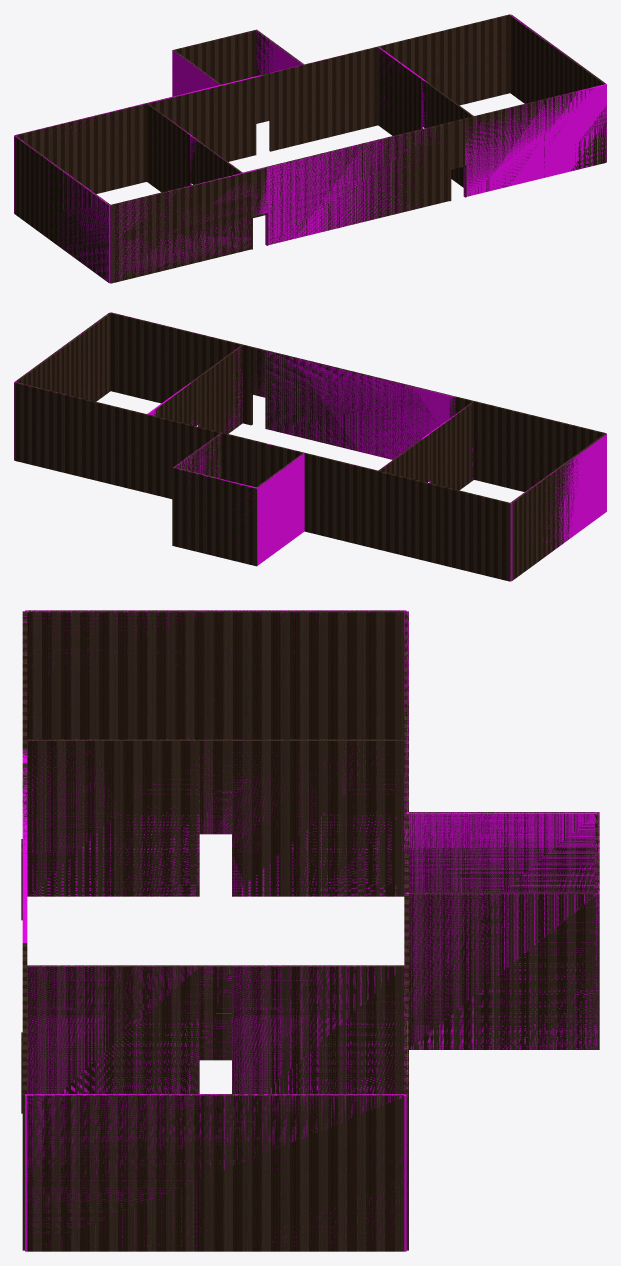
The model's file is dinding.glb.
3 views of the same model, one above another, from view 1: azimuth 30°, elevation 25°; view 2: azimuth 150°, elevation 25°; view 3: azimuth 270°, elevation 25° (orthographic). The views are drawn at different scales.
Visible parts, largest first — view 1: dinding_depan, dinding_belakang, col_front_3, col_front_1, dinding_sekat, dinding_kiri, dinding_kanan, dinding_atang, col_side_l, col_front_0, col_atang_l_0, col_atang_r_0; view 2: dinding_belakang, dinding_depan, col_front_1, dinding_sekat, dinding_atang, dinding_kiri, dinding_kanan, col_side_l, col_atang_l_0, col_atang_r_0; view 3: dinding_sekat, dinding_kanan, dinding_kiri, dinding_atang, col_atang_l_0, col_atang_r_0, col_sekat_r_b_0, col_sekat_r_a_0, col_side_r, col_sekat_l_b_0, dinding_belakang, dinding_depan (+2 smaller).
Part boxes in pixels (x1=…): dinding_depan: x1=110, y1=88, x2=606, y2=283; dinding_belakang: x1=14, y1=14, x2=510, y2=193; col_front_3: x1=463, y1=84, x2=606, y2=196; col_front_1: x1=265, y1=123, x2=448, y2=245; dinding_sekat: x1=147, y1=48, x2=473, y2=192; dinding_kiri: x1=14, y1=136, x2=110, y2=282; dinding_kanan: x1=510, y1=15, x2=605, y2=103; dinding_atang: x1=172, y1=29, x2=303, y2=90; col_side_l: x1=14, y1=135, x2=110, y2=283; col_front_0: x1=112, y1=171, x2=252, y2=279; col_atang_l_0: x1=172, y1=51, x2=220, y2=96; col_atang_r_0: x1=256, y1=30, x2=303, y2=75; dinding_belakang: x1=14, y1=382, x2=510, y2=581; dinding_depan: x1=110, y1=312, x2=606, y2=491; col_front_1: x1=265, y1=351, x2=449, y2=459; dinding_sekat: x1=154, y1=345, x2=473, y2=490; dinding_atang: x1=172, y1=433, x2=303, y2=566; dinding_kiri: x1=511, y1=434, x2=605, y2=580; dinding_kanan: x1=15, y1=313, x2=110, y2=401; col_side_l: x1=510, y1=433, x2=606, y2=581; col_atang_l_0: x1=257, y1=453, x2=304, y2=565; col_atang_r_0: x1=174, y1=434, x2=221, y2=477; dinding_sekat: x1=27, y1=739, x2=404, y2=1093; dinding_kanan: x1=27, y1=1094, x2=404, y2=1251; dinding_kiri: x1=27, y1=610, x2=404, y2=739; dinding_atang: x1=409, y1=812, x2=599, y2=1049; col_atang_l_0: x1=406, y1=812, x2=597, y2=892; col_atang_r_0: x1=406, y1=892, x2=597, y2=1049; col_sekat_r_b_0: x1=27, y1=965, x2=199, y2=1093; col_sekat_r_a_0: x1=232, y1=965, x2=401, y2=1093; col_side_r: x1=25, y1=1094, x2=406, y2=1251; col_sekat_l_b_0: x1=27, y1=739, x2=199, y2=896; dinding_belakang: x1=404, y1=611, x2=408, y2=1250; dinding_depan: x1=21, y1=611, x2=27, y2=1250.
Bounding box in the file's own units: 30.12 × 4.5 × 15.16.
2 materials, 1 textured.
